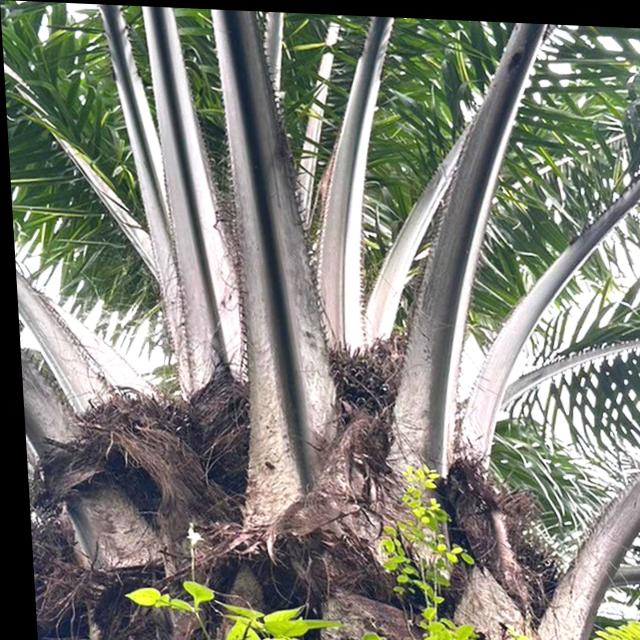unripe: (295, 333, 411, 461)
